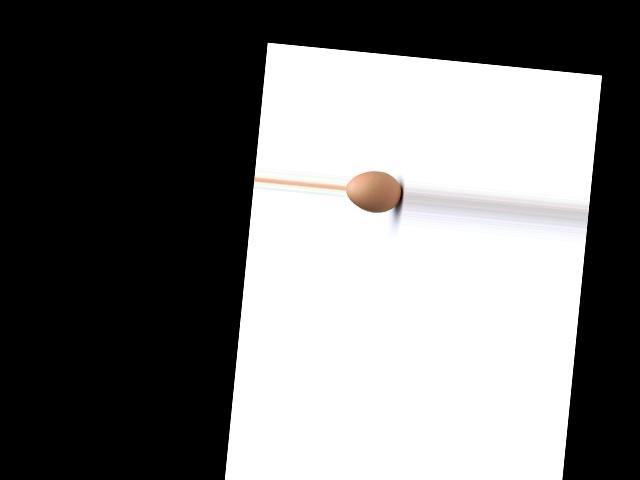egg: (344, 168, 404, 214)
